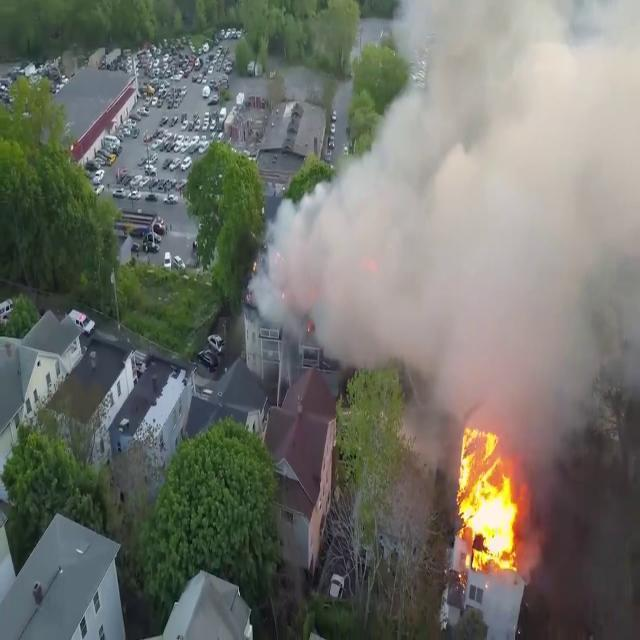Fire: (450, 426, 524, 572)
Smoke: (252, 0, 640, 464)
